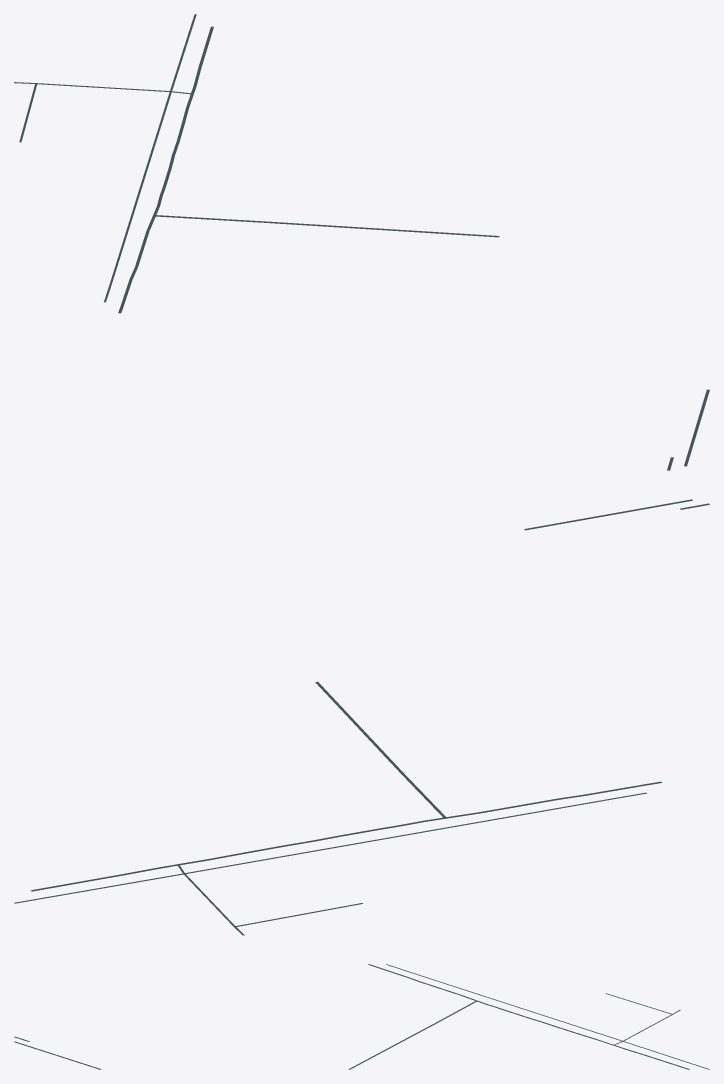
3 renders of one model, top to bottom at view 1: azimuth 30°, elevation 25°; view 2: azimuth 150°, elevation 25°; view 3: azimuth 270°, elevation 25°, orthographic. The views are drawn at different scales.
Visible parts, largest first — view 1: street; view 2: street; view 3: street.
Part boxes in pixels (x1=…): street: x1=14, y1=14, x2=709, y2=470; street: x1=14, y1=499, x2=709, y2=935; street: x1=14, y1=964, x2=709, y2=1069.
Bounding box in the file's own units: 670 × 0.22 × 1861.
